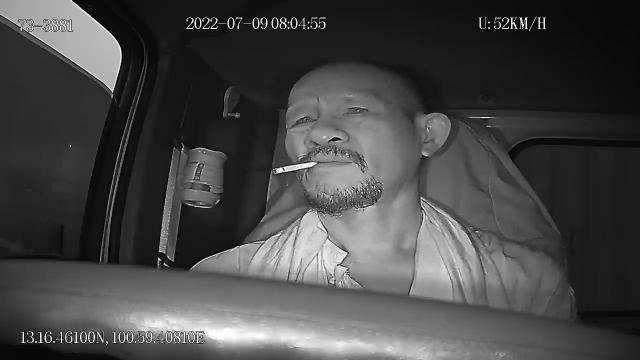SafeDriving: (283, 105, 322, 135), (338, 96, 378, 121)
Smoking: (272, 161, 320, 175)
